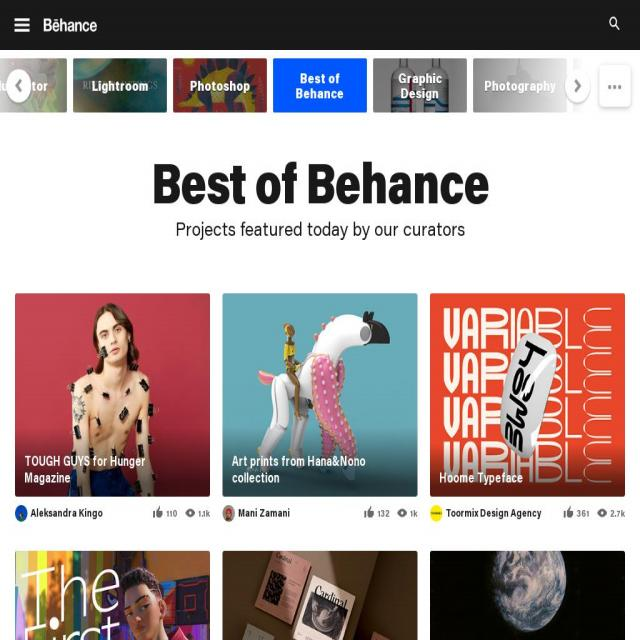navigation-blocks: (12, 280, 640, 640), (16, 53, 639, 125)
options: (599, 63, 630, 112), (6, 8, 35, 38)
search: (599, 7, 626, 40)
